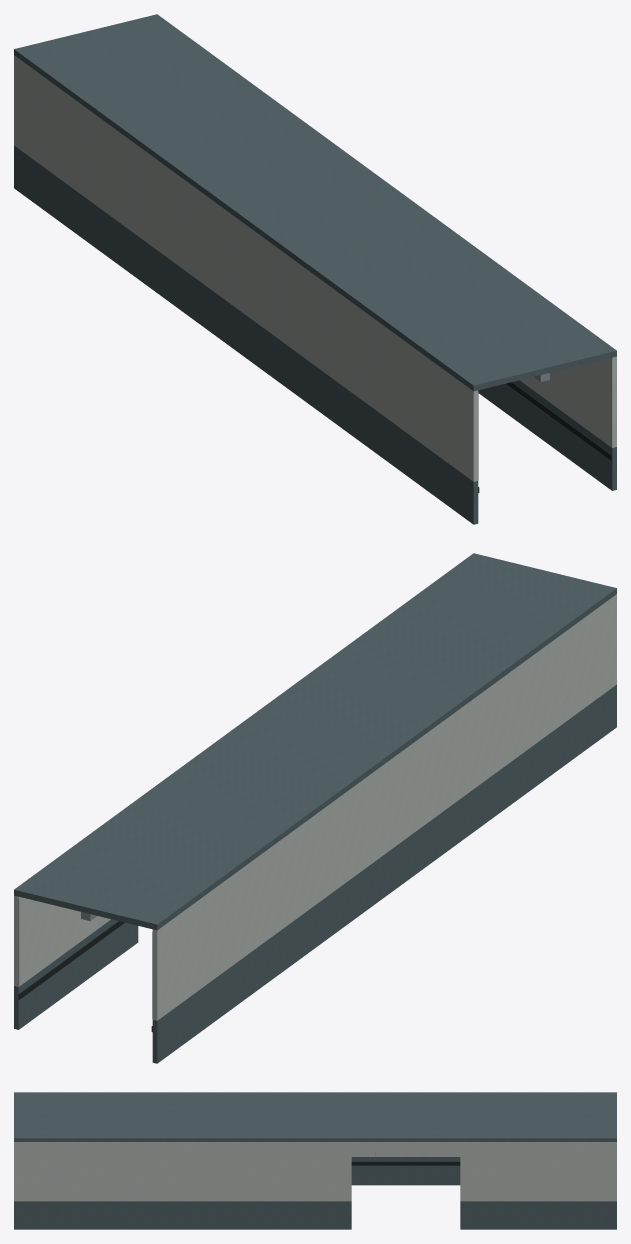
The model's file is AST-STF-G3-052.glb.
3 renders of one model, top to bottom at view 1: azimuth 30°, elevation 25°; view 2: azimuth 150°, elevation 25°; view 3: azimuth 270°, elevation 25°, orthographic. The views are drawn at different scales.
Visible parts, largest first — view 1: HOME_BATCH_023_ASTRAEA_staff_bluegrey_paint, HOME_BATCH_190_ASTRAEA_staff_white_paint, HOME_BATCH_140_ASTRAEA_staff_rubber; view 2: HOME_BATCH_023_ASTRAEA_staff_bluegrey_paint, HOME_BATCH_190_ASTRAEA_staff_white_paint, HOME_BATCH_140_ASTRAEA_staff_rubber; view 3: HOME_BATCH_023_ASTRAEA_staff_bluegrey_paint, HOME_BATCH_190_ASTRAEA_staff_white_paint, HOME_BATCH_140_ASTRAEA_staff_rubber.
Part boxes in pixels (bbox=[...]): HOME_BATCH_023_ASTRAEA_staff_bluegrey_paint: bbox=[14, 14, 616, 524]; HOME_BATCH_190_ASTRAEA_staff_white_paint: bbox=[14, 55, 616, 481]; HOME_BATCH_140_ASTRAEA_staff_rubber: bbox=[478, 382, 612, 492]; HOME_BATCH_023_ASTRAEA_staff_bluegrey_paint: bbox=[14, 553, 616, 1063]; HOME_BATCH_190_ASTRAEA_staff_white_paint: bbox=[14, 594, 616, 1020]; HOME_BATCH_140_ASTRAEA_staff_rubber: bbox=[18, 921, 152, 1031]; HOME_BATCH_023_ASTRAEA_staff_bluegrey_paint: bbox=[14, 1092, 616, 1229]; HOME_BATCH_190_ASTRAEA_staff_white_paint: bbox=[14, 1142, 616, 1201]; HOME_BATCH_140_ASTRAEA_staff_rubber: bbox=[351, 1161, 460, 1165].
Bounding box in the file's own units: 3.6 × 3.34 × 20.
Materials: 4 (4 with a texture image).
